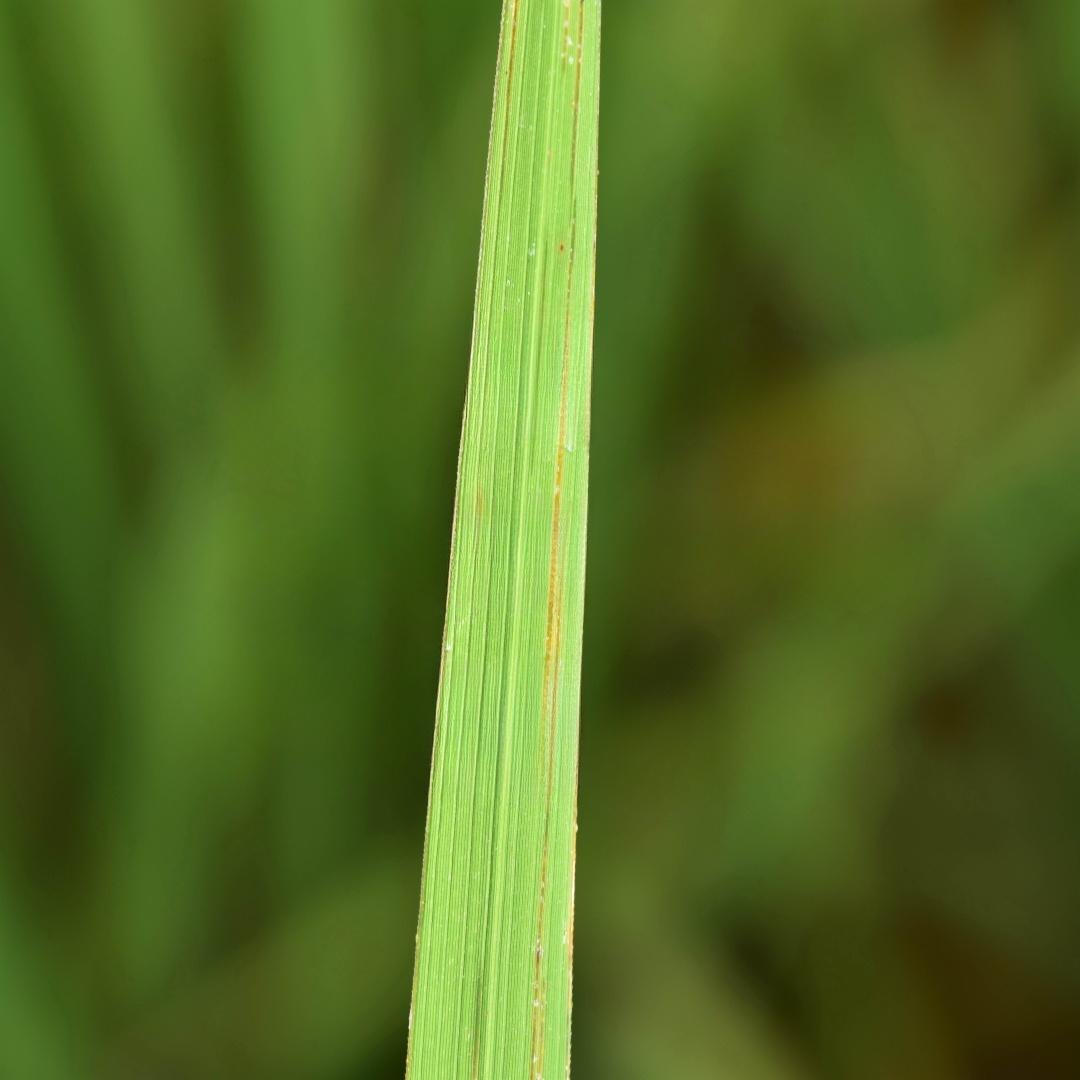BLS: (539, 288, 570, 818), (529, 813, 548, 1079), (406, 850, 428, 1078), (566, 739, 578, 1079), (501, 0, 521, 186), (588, 148, 597, 434), (572, 0, 584, 198), (537, 979, 545, 1079), (561, 0, 570, 77)
LEAF: (404, 2, 600, 1079)
